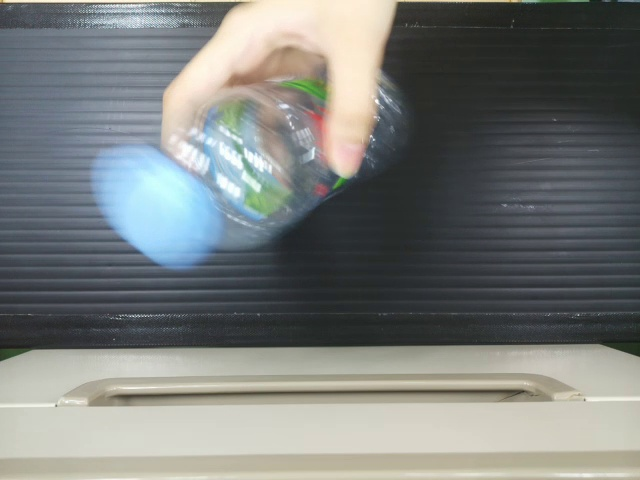bottle: (101, 68, 421, 273)
